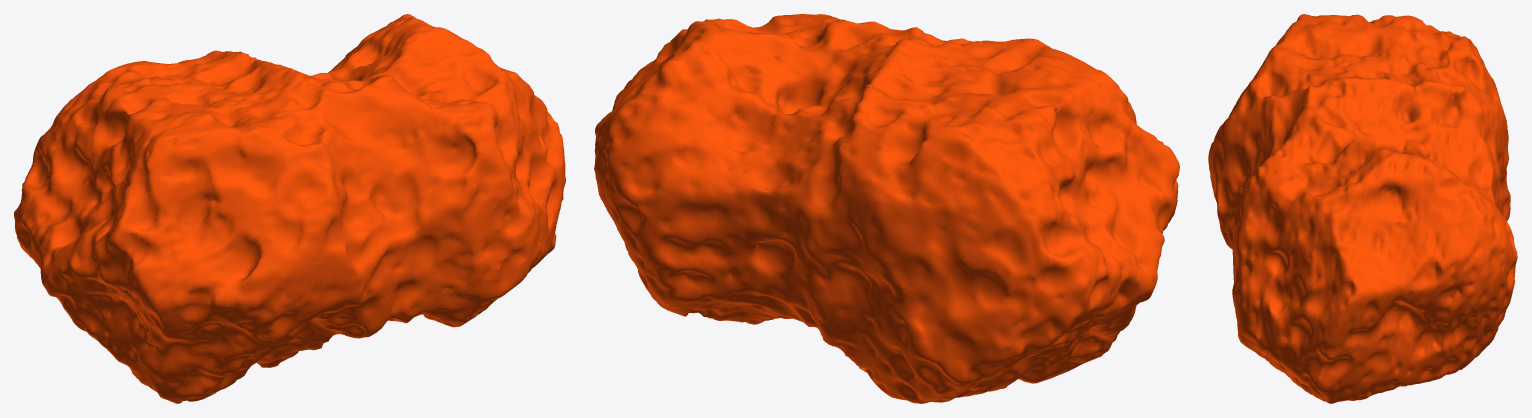
File: Asteroid_3.glb
3 views of the same model, side by side, from view 1: azimuth 30°, elevation 25°; view 2: azimuth 150°, elevation 25°; view 3: azimuth 270°, elevation 25° (orthographic). The views are drawn at different scales.
Visible parts, largest first — view 1: Asteroid_3_LOW_MODEL_; view 2: Asteroid_3_LOW_MODEL_; view 3: Asteroid_3_LOW_MODEL_.
Part boxes in pixels (x1=…): Asteroid_3_LOW_MODEL_: x1=14, y1=14, x2=565, y2=403; Asteroid_3_LOW_MODEL_: x1=594, y1=14, x2=1179, y2=403; Asteroid_3_LOW_MODEL_: x1=1208, y1=14, x2=1517, y2=403.
Bounding box in the file's own units: 3.68 × 2.06 × 2.13.
1 material, 1 textured.
